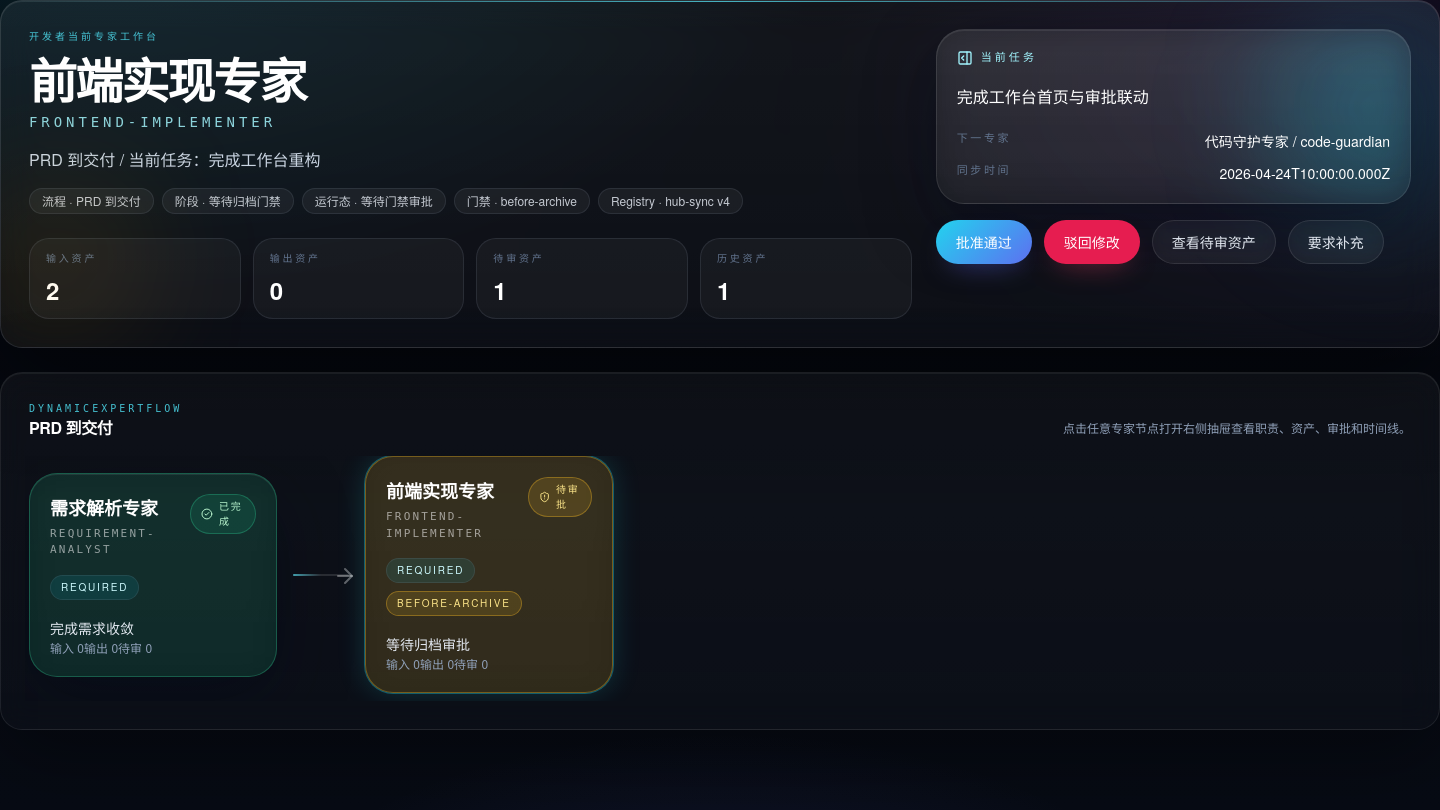
CurrentExpertWorkspace › 点击主卡审批动作时先打开完整门禁面板
Click the button "批准通过" at (984, 242), box top-left (936, 220), bottom-right (1032, 264)
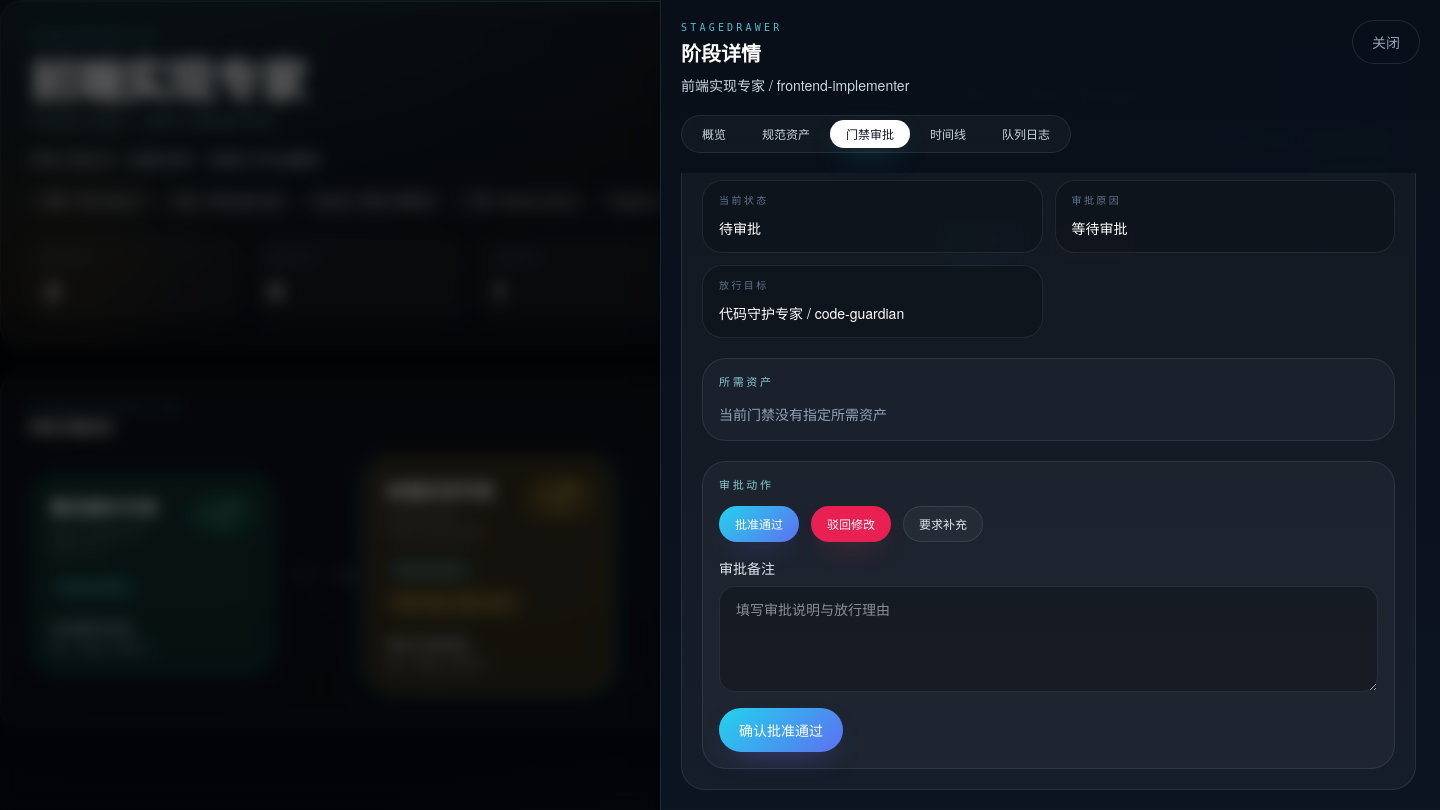
Now the heading "阶段详情" is shown, box top-left (681, 38), bottom-right (761, 67)
Now the text box labelled "审批备注" is shown, box top-left (719, 586), bottom-right (1378, 692)
Now the button "确认批准通过" is shown, box top-left (719, 708), bottom-right (843, 752)
